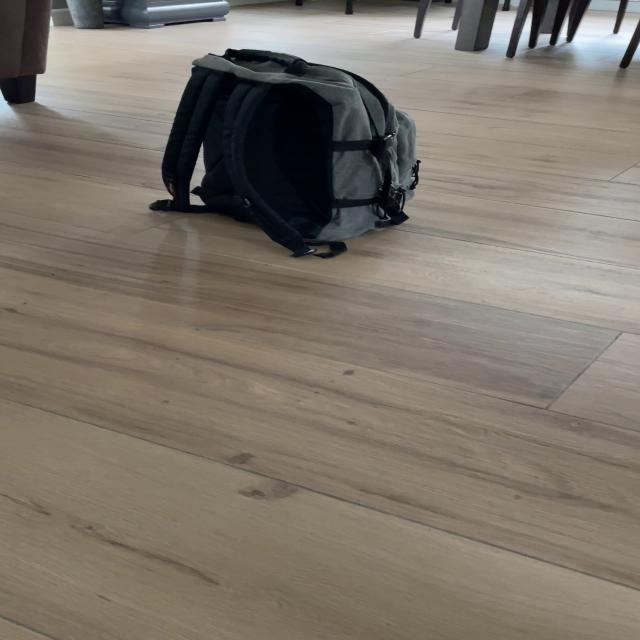backpack: (152, 38, 438, 253)
